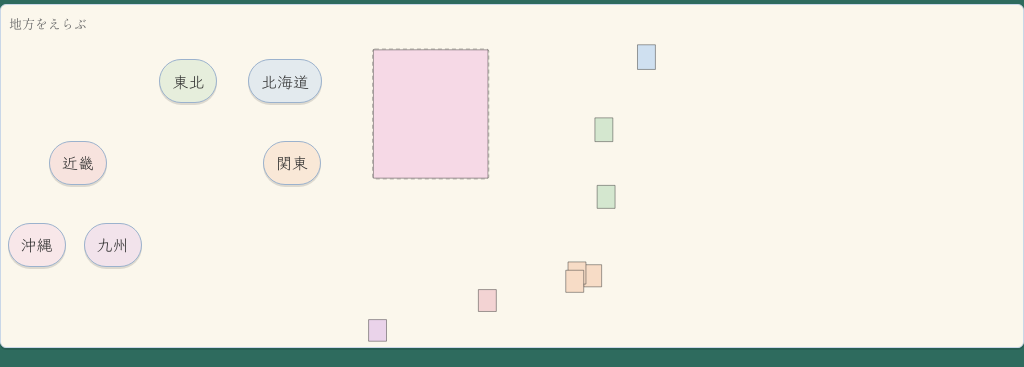
RegionPicker › 「地方を選び直す」で段階 1 へ戻る
What coordinates should you click on to do the following:
click the button with aria-label "関東地方"
I would click on:
 (292, 163)
Its box is [263,141,321,185].
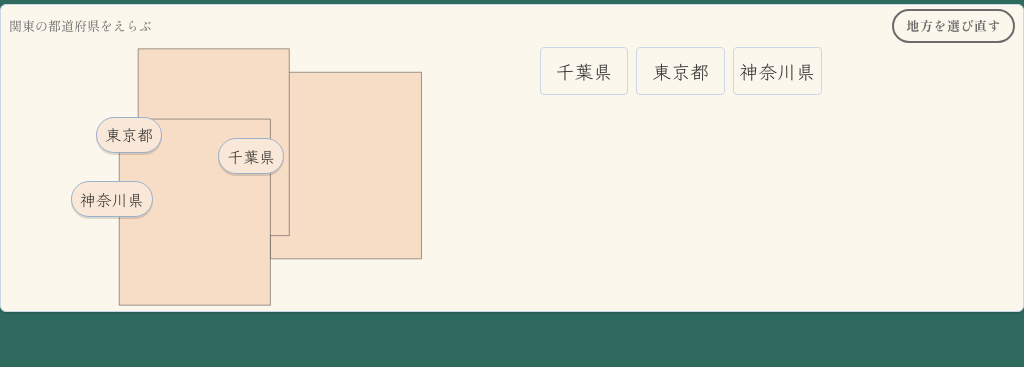
Now the button "地方を選び直す" is shown
What coordinates should you click on to do the following:
click the button "地方を選び直す"
I would click on:
 (954, 26)
Its box is [892,9,1015,43].
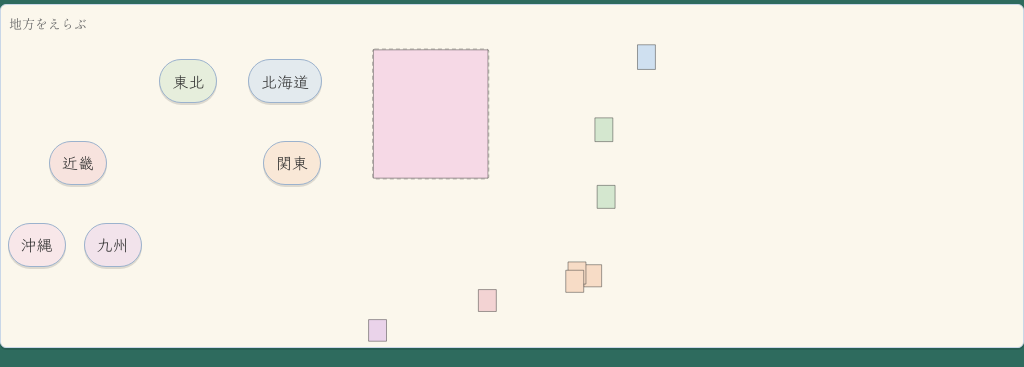
Now the text "地方をえらぶ" is shown, box [9,12,87,36]
Now the button "千葉県" is gone
